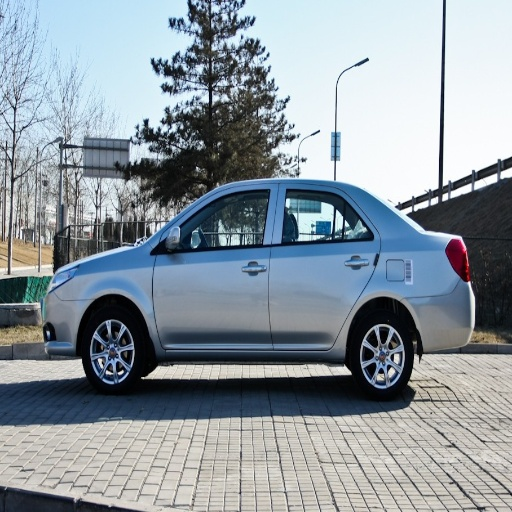back_left_door: (269, 181, 380, 347)
front_left_door: (153, 183, 277, 347)
